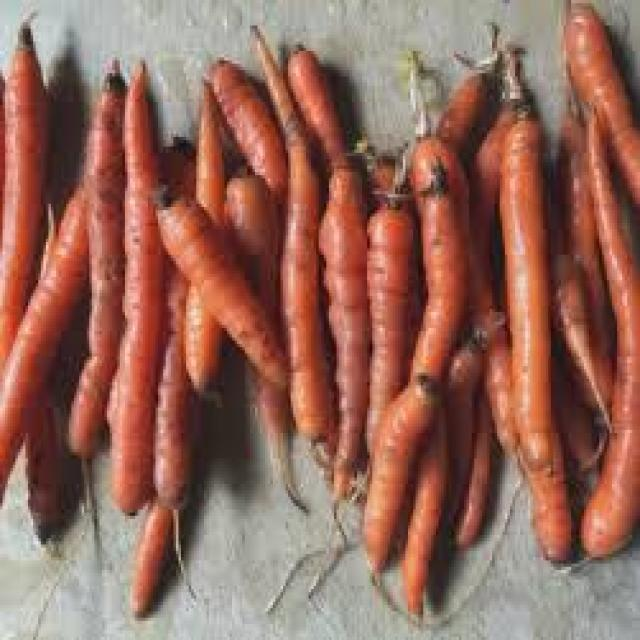Stale_Carrot: (26, 41, 91, 545), (73, 47, 125, 460), (321, 174, 367, 496)
